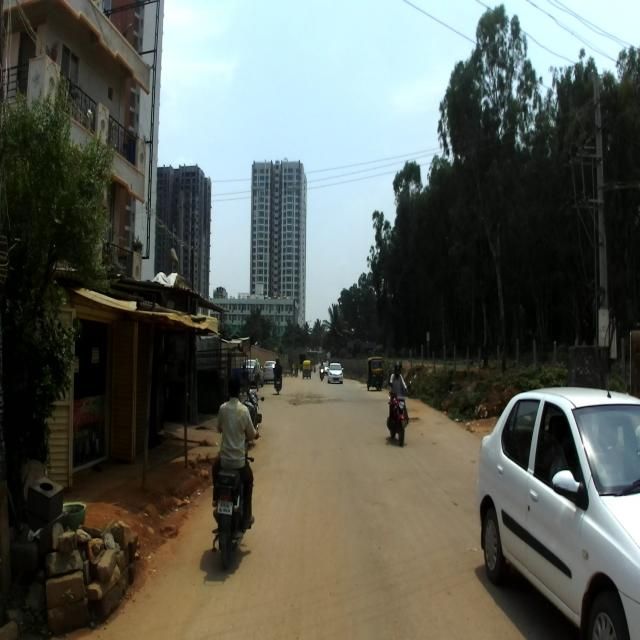Car_TATA: (476, 354, 640, 640)
motorcycle_TVS: (211, 433, 260, 568)
motorcycle_Yamaha: (385, 381, 411, 446)
